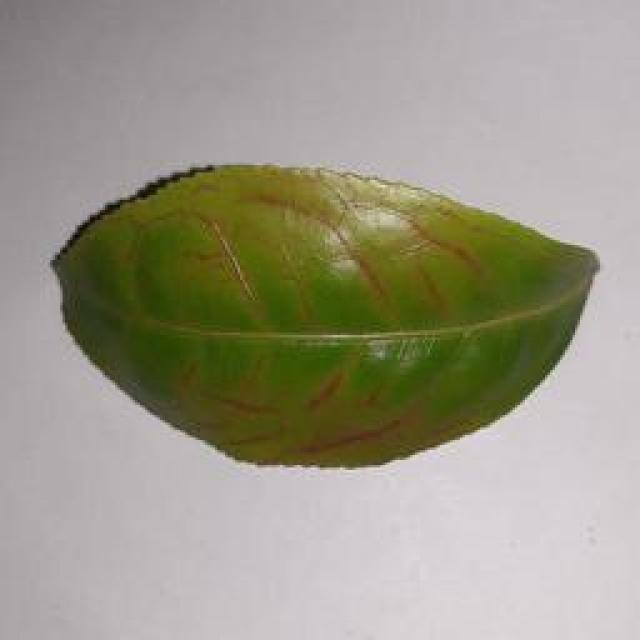Red Leaf Spot: (41, 147, 605, 477)
